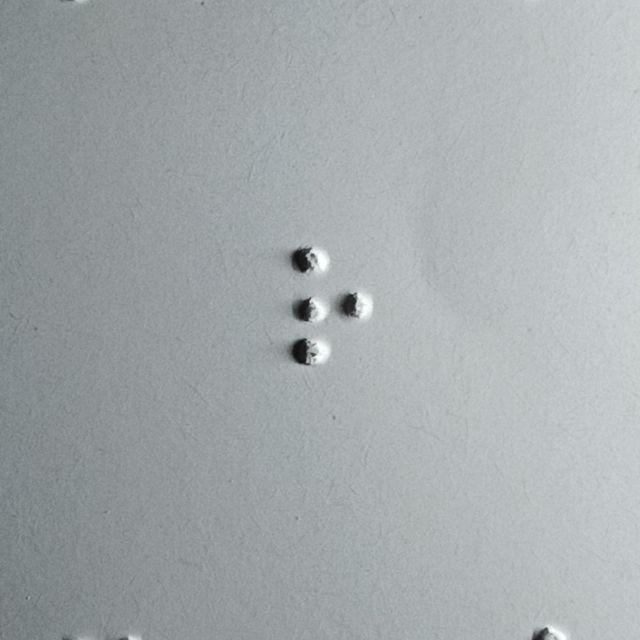r: (289, 245, 376, 368)
